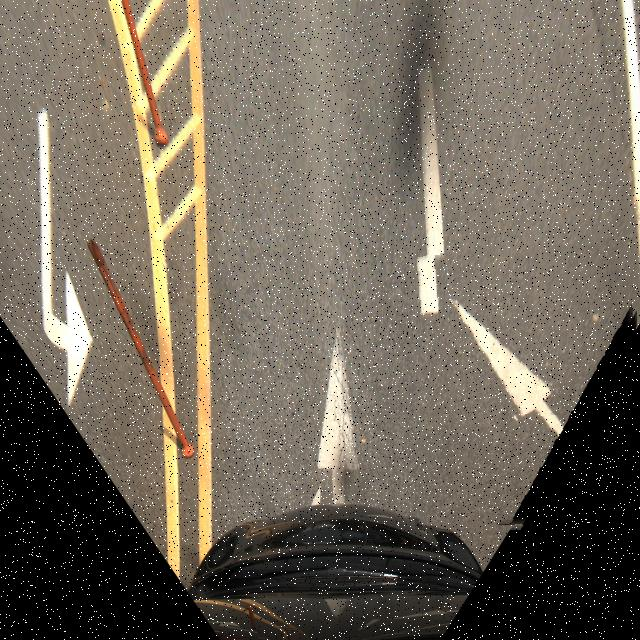chang_lane_left: (415, 245, 640, 531)
